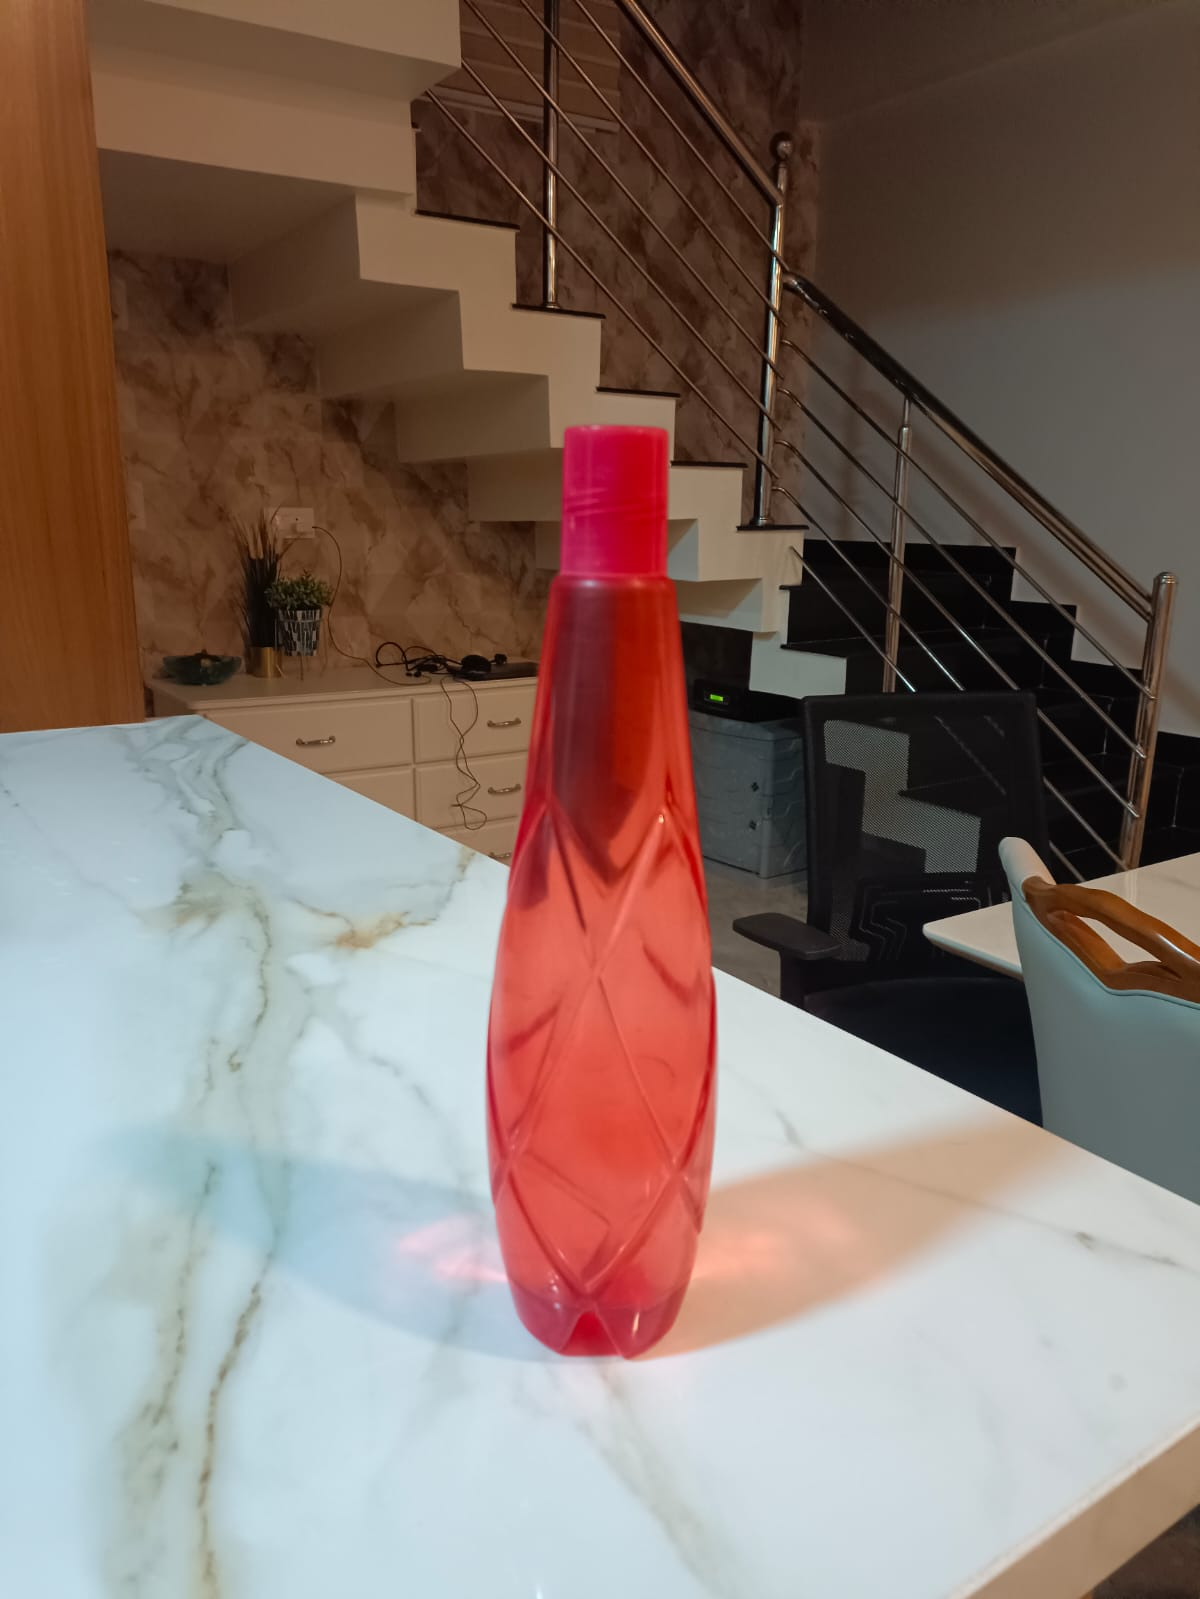bottle: (473, 417, 745, 1372)
